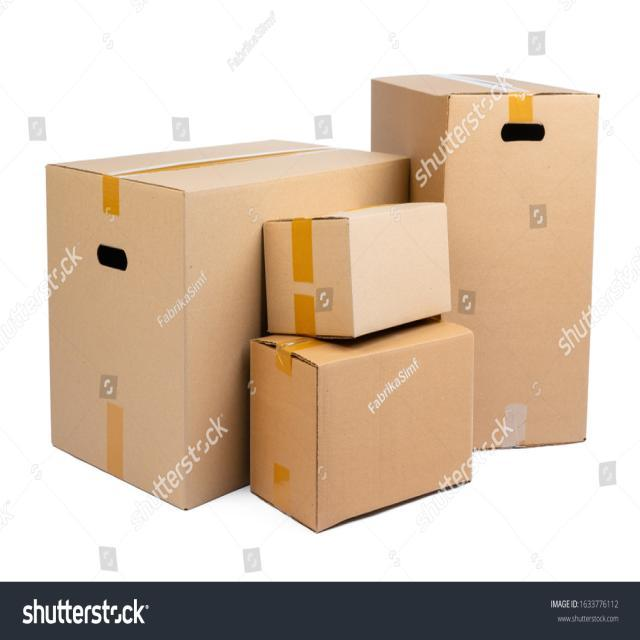BoxFace: (444, 91, 600, 450), (46, 166, 186, 510), (319, 332, 474, 537), (347, 204, 452, 340)
